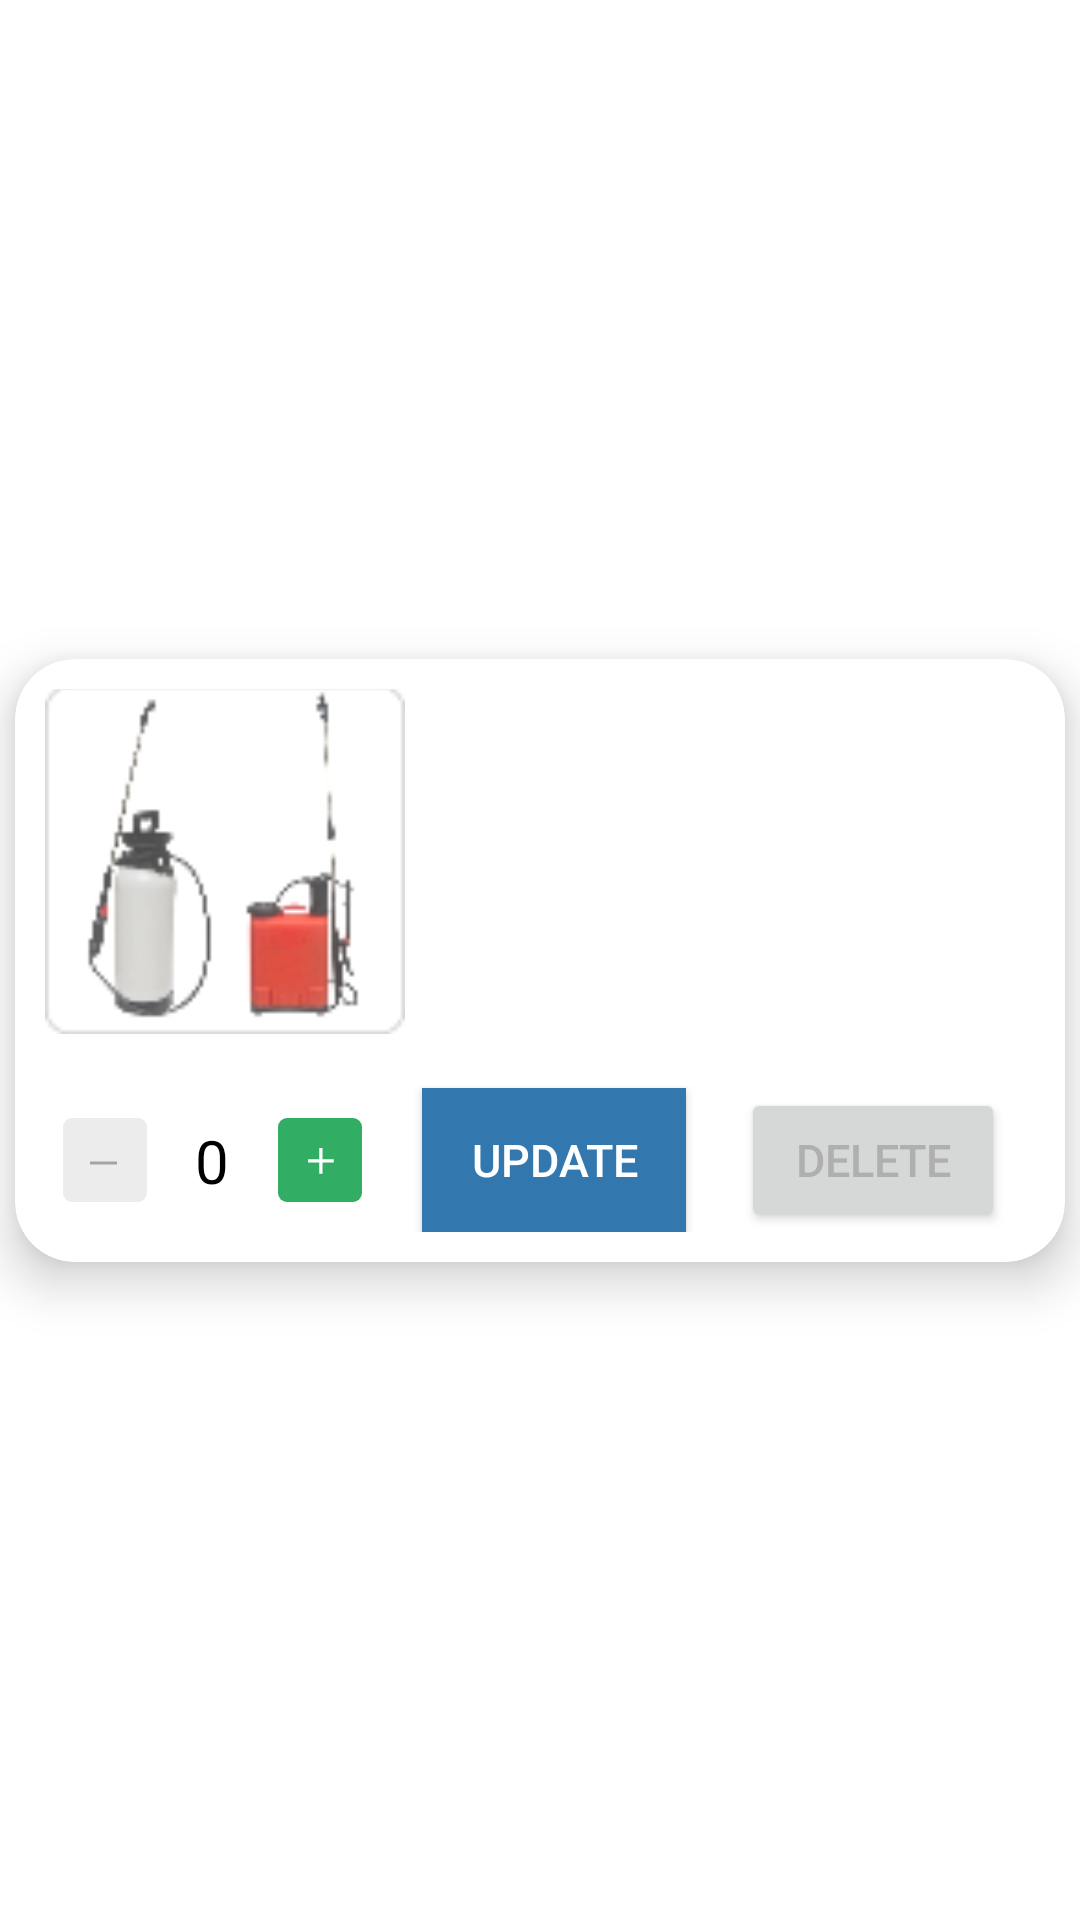

Named icons in this screenshot (1080×1920) and their bounding boxes, (x1, y1, x2, y2):
pesticide: (45, 690, 405, 1034)
